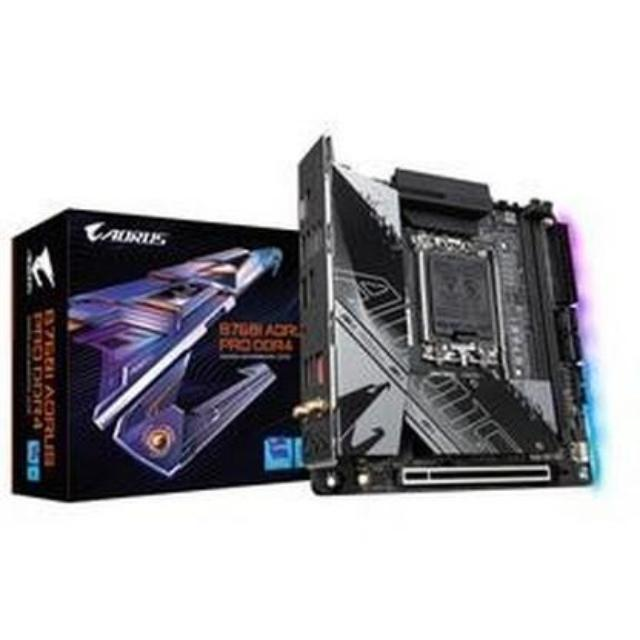Mainboard: (300, 132, 603, 492)
